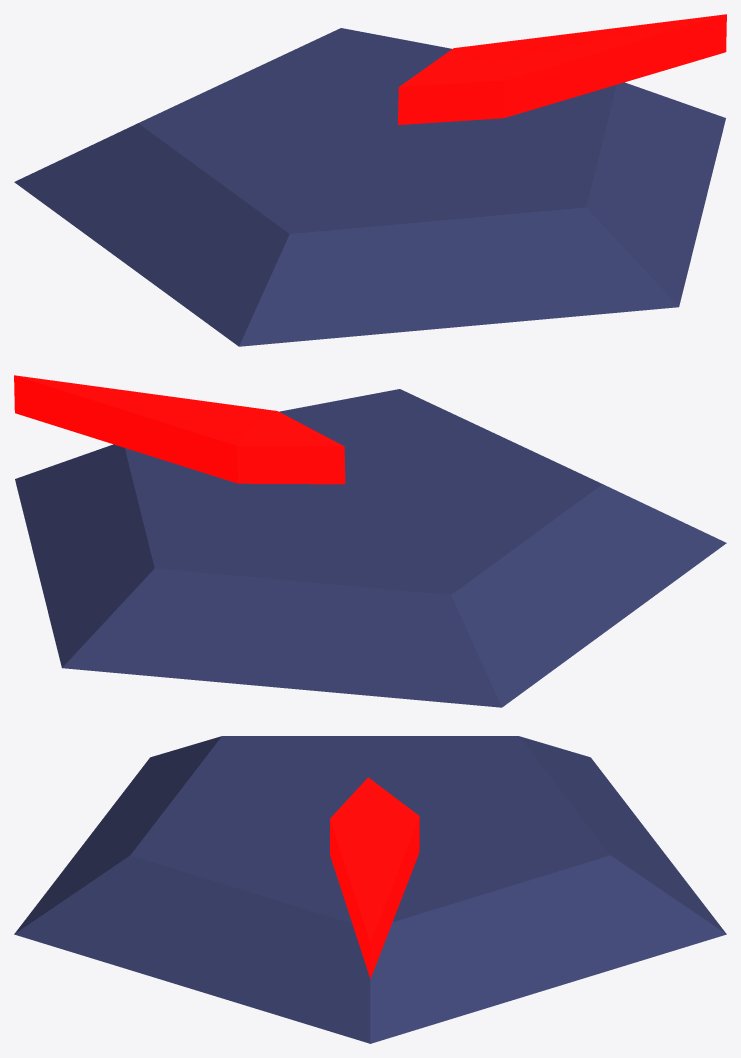
The model's file is SoundEmitter_TimerPart.FBX.
The picture shows the model from 3 angles, top to bottom: view 1: azimuth 30°, elevation 25°; view 2: azimuth 150°, elevation 25°; view 3: azimuth 270°, elevation 25°; orthographic projection. The views are drawn at different scales.
Visible parts, largest first — view 1: Object003, Object042; view 2: Object003, Object042; view 3: Object003, Object042.
Part boxes in pixels (x1,y1,x2,y2): Object003: (14, 28, 725, 346); Object042: (398, 14, 726, 124); Object003: (15, 389, 726, 707); Object042: (14, 375, 345, 484); Object003: (14, 736, 726, 1043); Object042: (330, 777, 419, 978).
Bounding box in the file's own units: 16.69 × 2.97 × 17.52.
